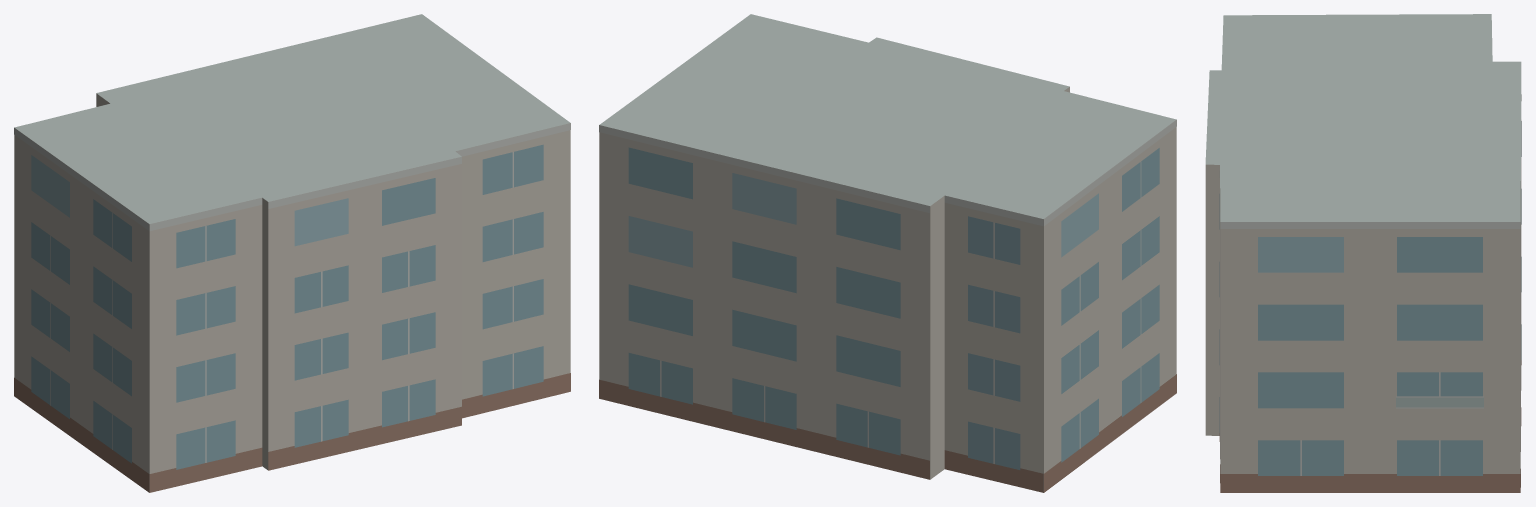
File: survey-upis-32751165.glb
3 views of the same model, side by side, from view 1: azimuth 30°, elevation 25°; view 2: azimuth 150°, elevation 25°; view 3: azimuth 270°, elevation 25° (orthographic).
Parts seen in each view (by area): view 1: survey-upis-32751165.tmp; view 2: survey-upis-32751165.tmp; view 3: survey-upis-32751165.tmp.
Part boxes in pixels (x1,y1,x2,y2): survey-upis-32751165.tmp: [14, 14, 570, 492]; survey-upis-32751165.tmp: [599, 14, 1176, 492]; survey-upis-32751165.tmp: [1205, 14, 1521, 492].
Bounding box in the file's own units: 15.25 × 9.25 × 9.79.
